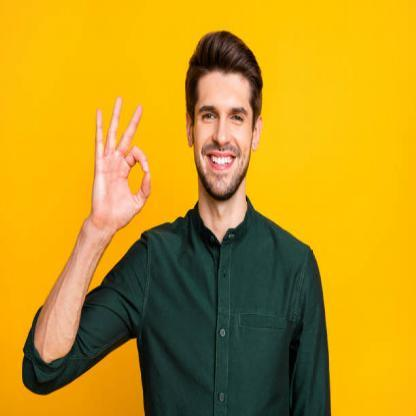ok: (92, 92, 153, 232)
